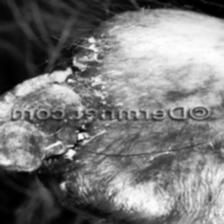Potentially Malignant Skin Tumors: (0, 123, 105, 179)
